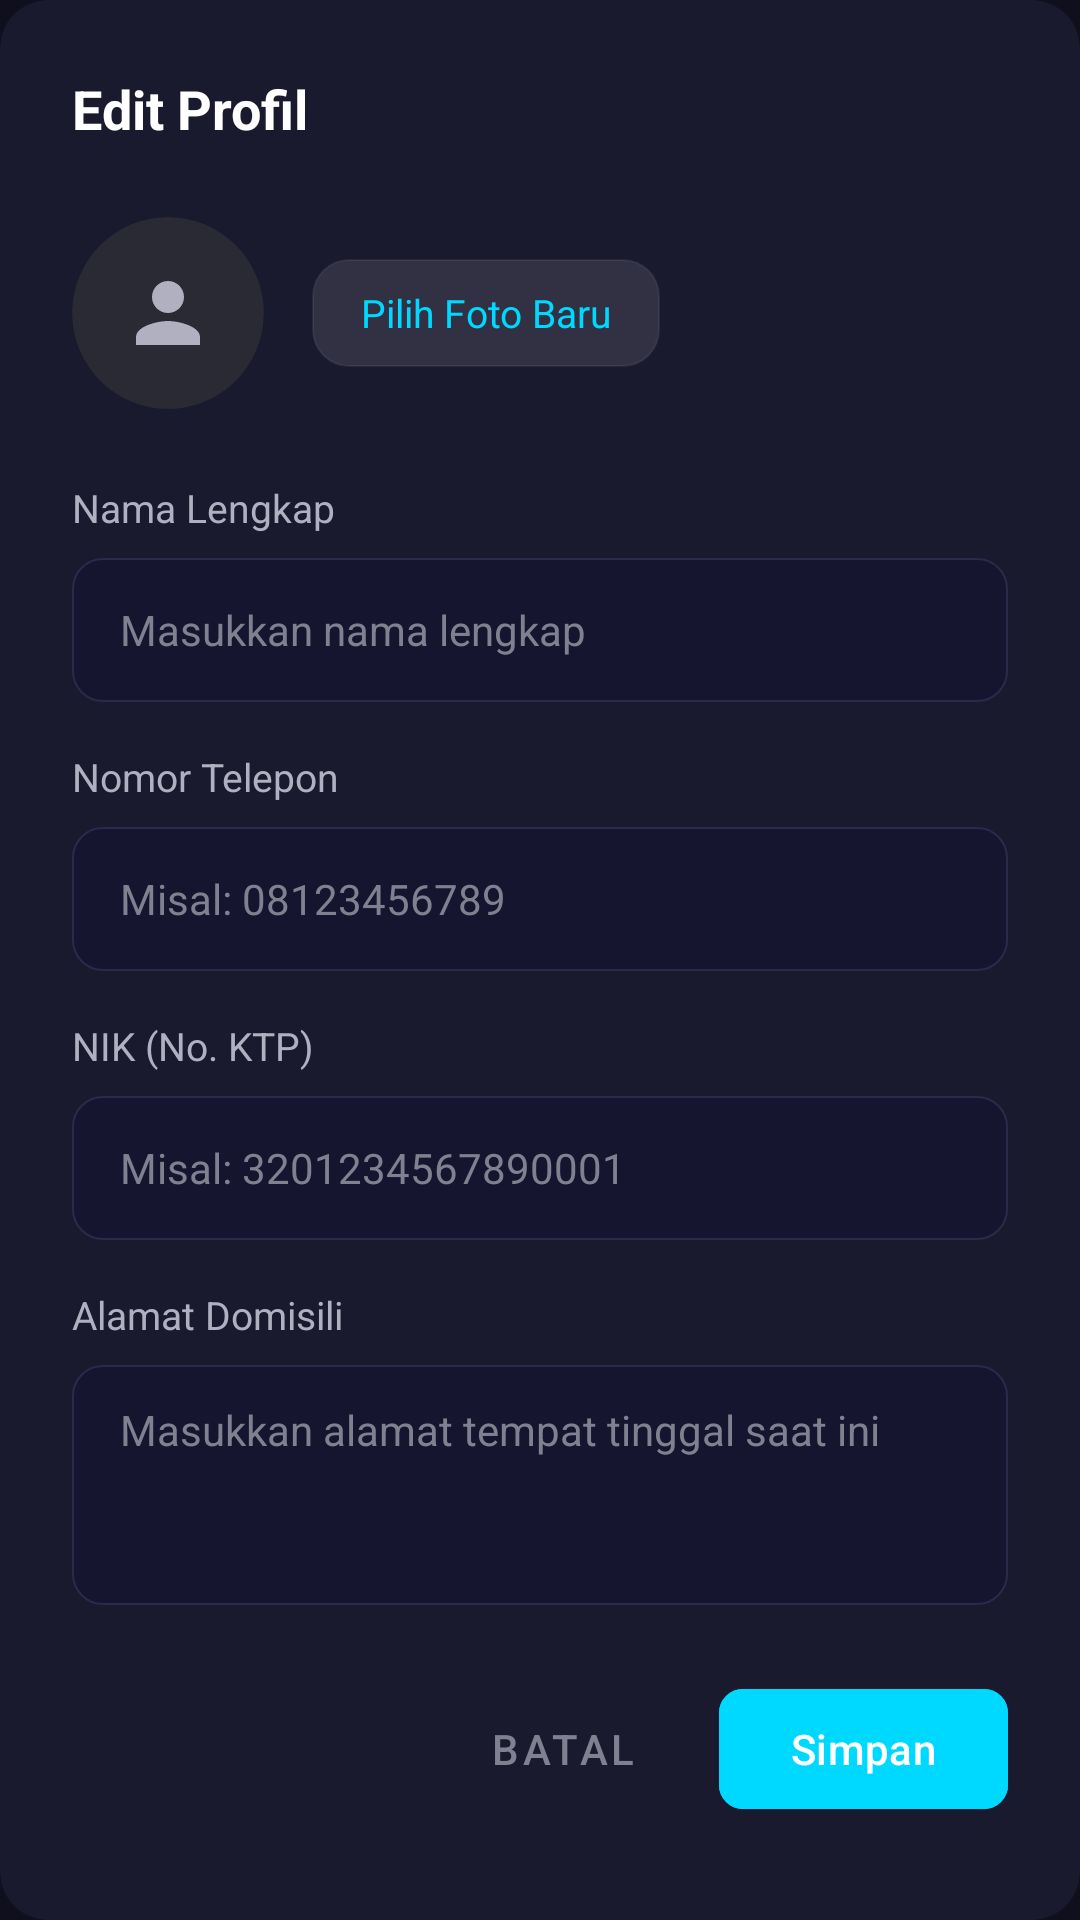

Where to tap for icons on this 1080px×1920px app screen, as [x,y]:
person: [168,313]
